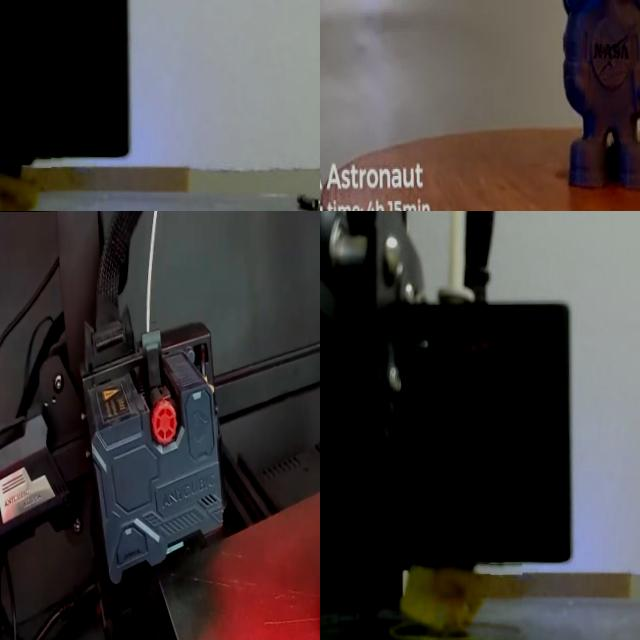spaghetti: (389, 563, 523, 640), (0, 157, 52, 211)
